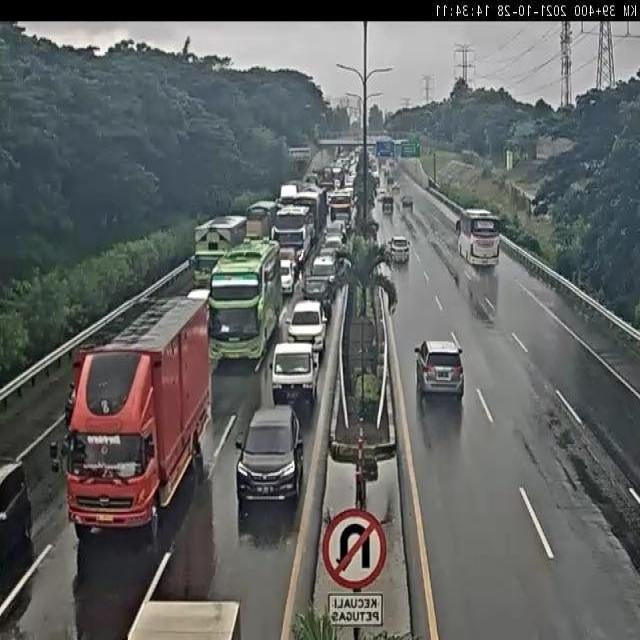Bus: (210, 237, 282, 360), (454, 209, 501, 268)
Car: (236, 404, 303, 508), (0, 453, 34, 563), (414, 339, 463, 401), (286, 299, 328, 353), (301, 275, 333, 316), (387, 236, 412, 262), (280, 259, 296, 295)
Truck: (49, 295, 211, 542), (187, 212, 248, 283), (269, 342, 321, 408)
